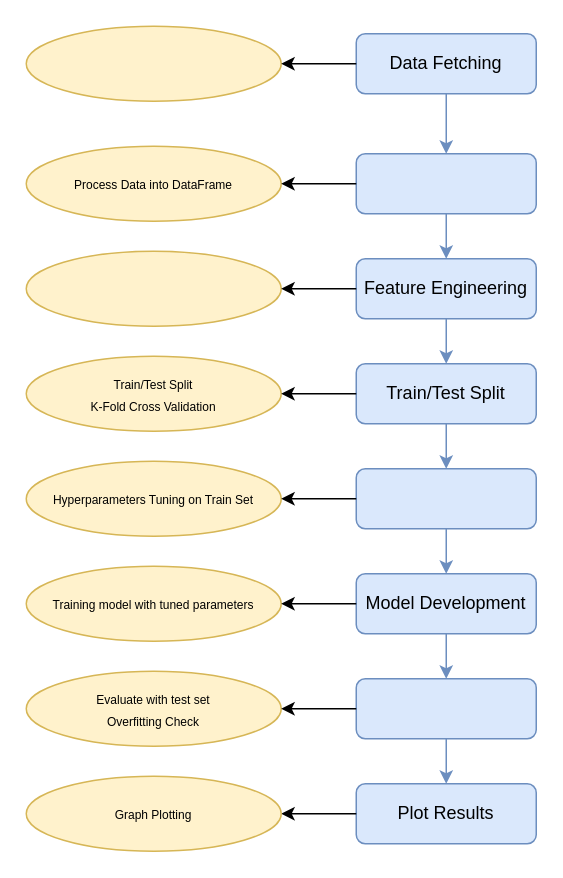
This 563x878 diagram has some shape labels left out. The shapes that lost their labels are listed below. From the top down, each one's centre as x and y in pixels, then its label:
At (153,63): "Pandas Data Yahoo Finance Other Third Parties".
At (445,183): "Data Preprocessing".
At (153,288): "Expand existing data with more features".
At (445,498): "Initial Model".
At (445,708): "Evaluation".
